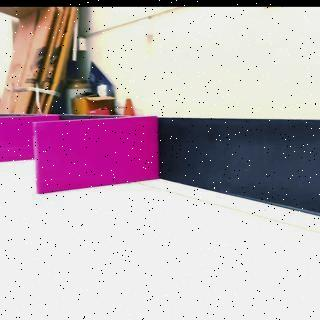xparking: (37, 119, 161, 180)
